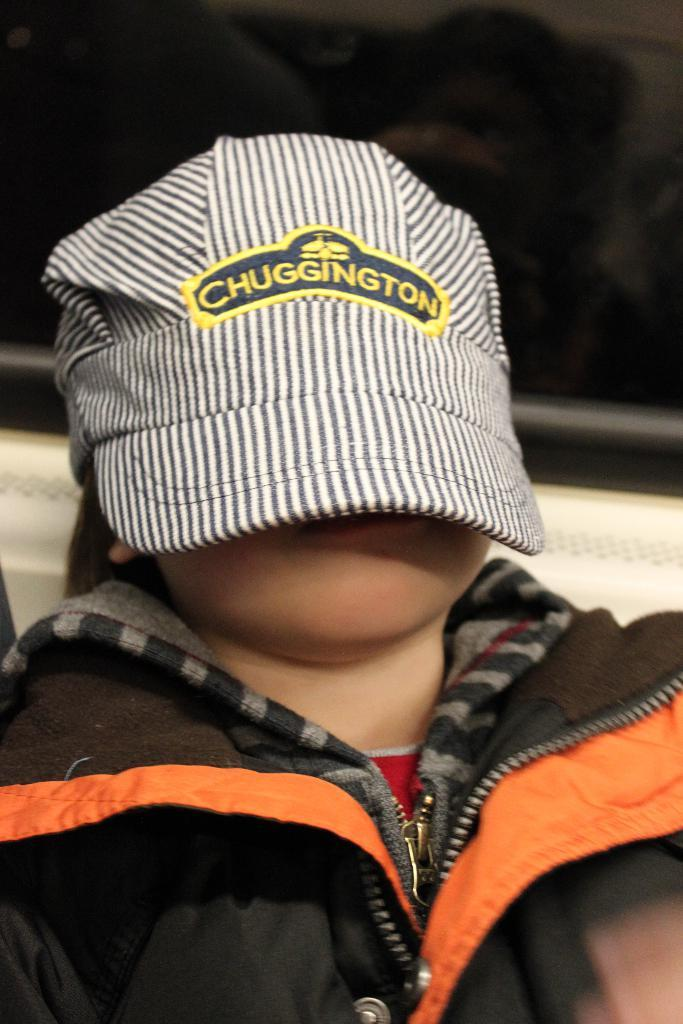Hat: (38, 132, 549, 564)
